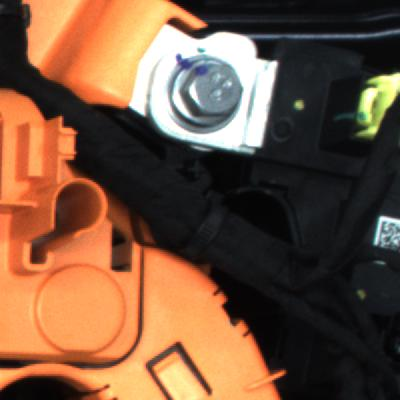nut_b: (157, 46, 266, 156)
